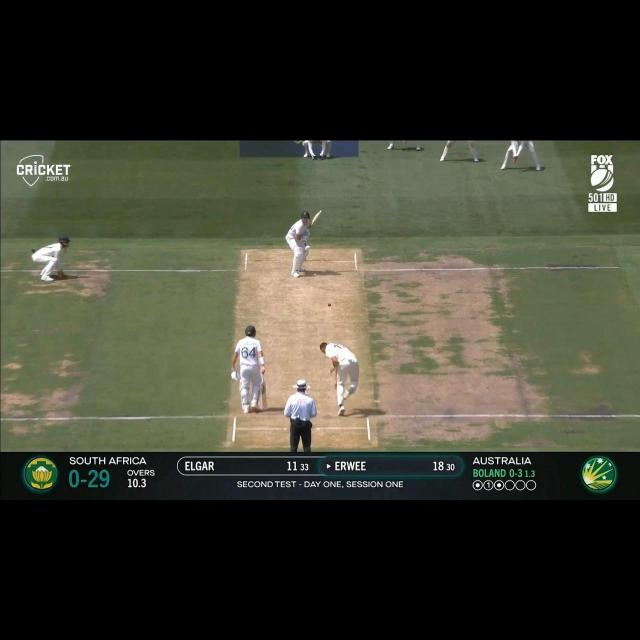bat: (260, 382, 270, 410), (309, 210, 322, 228)
toe: (316, 210, 322, 217), (261, 404, 268, 410)
